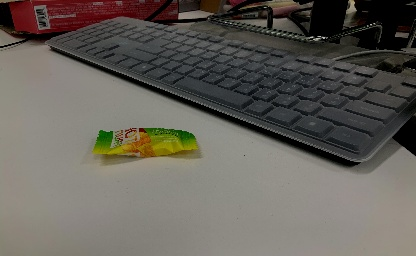jeli: (90, 125, 202, 160)
